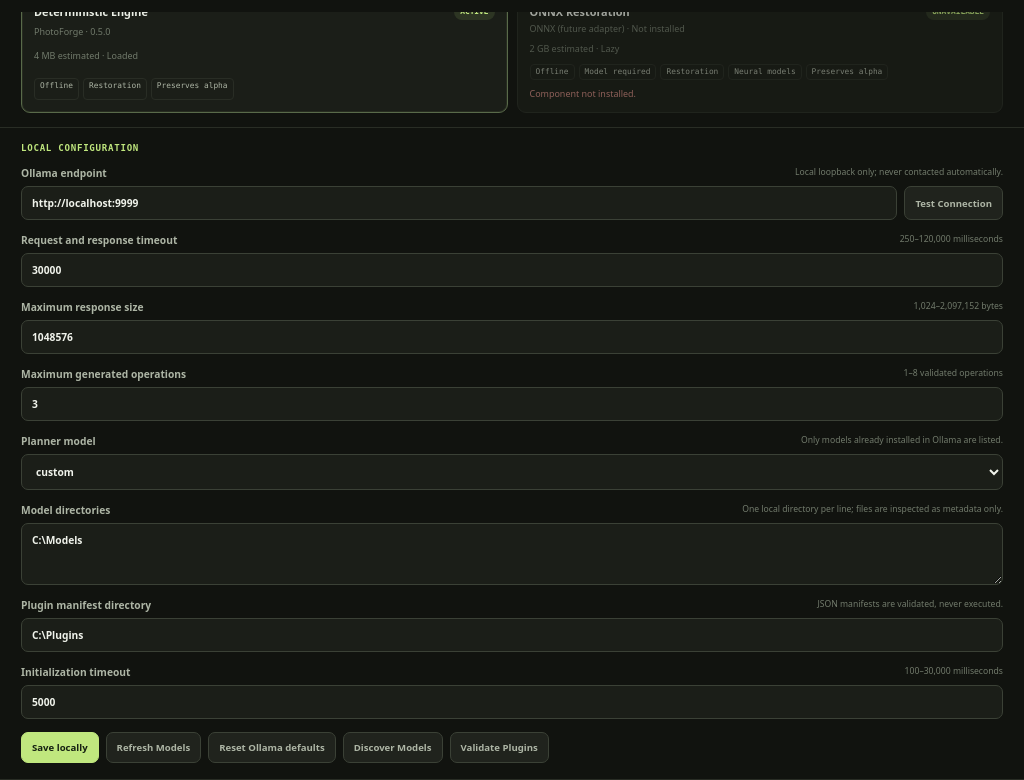
ComponentsSettings › resets visible Ollama settings without saving automatically
This screenshot has width=1024, height=780.
(page scrolled)
Click the button "Reset Ollama defaults": [272, 748] box x1=208 y1=732 x2=336 y2=763
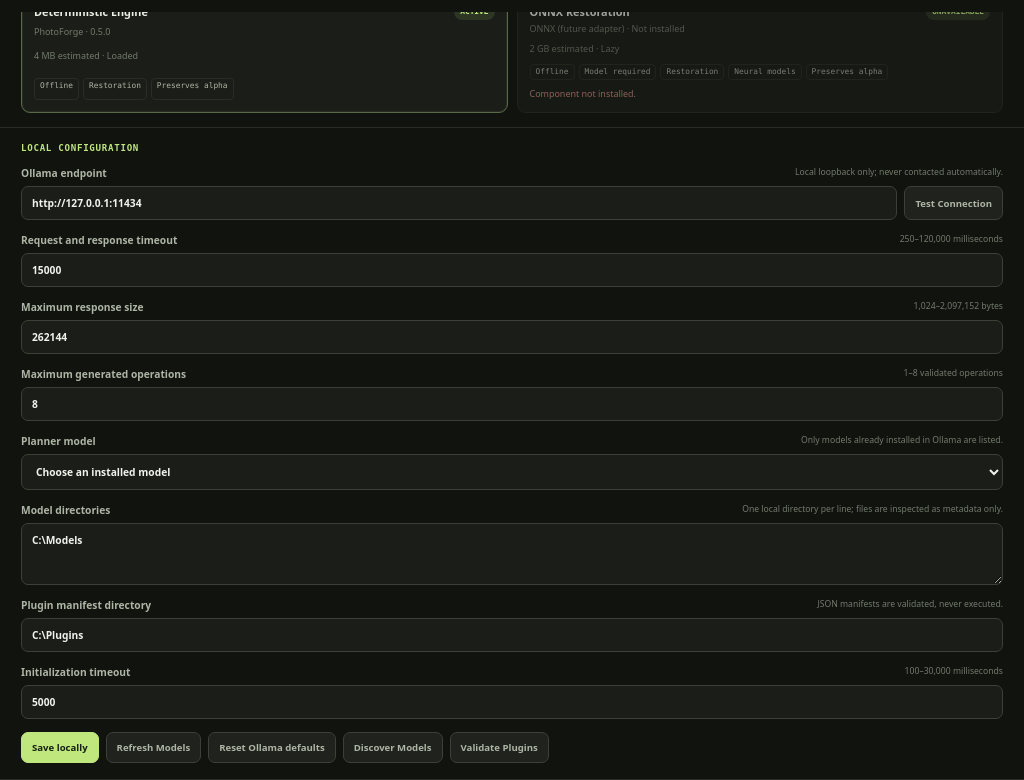
expect the field showing "http://127.0.0.1:11434" is shown: met, box x1=21 y1=186 x2=897 y2=220
expect the number field named "Ollama timeout" holds "15000": met, box x1=21 y1=253 x2=1003 y2=287
